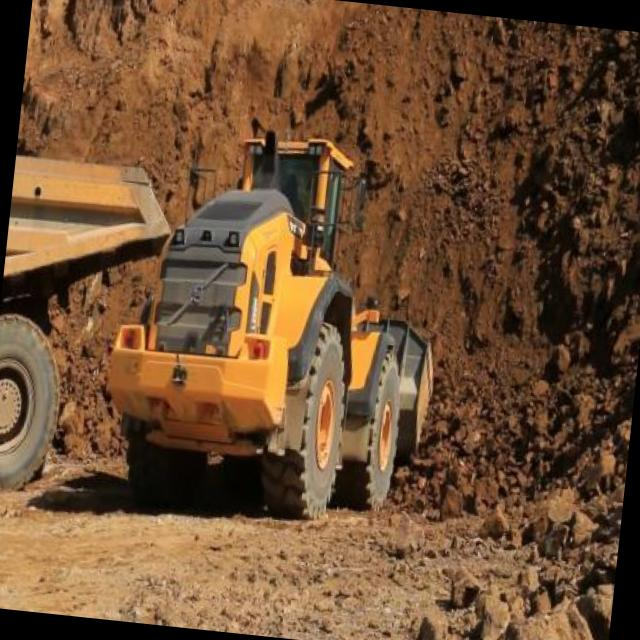Dump Truck: (0, 147, 176, 505)
Loader: (88, 112, 460, 537)
